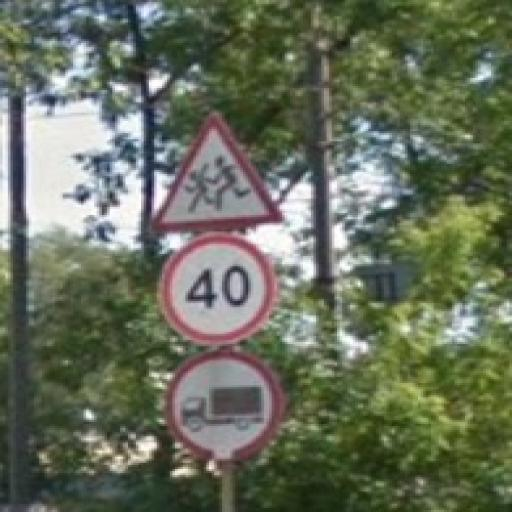traffic_sign: (150, 112, 286, 235), (158, 232, 281, 345), (166, 351, 283, 464)
